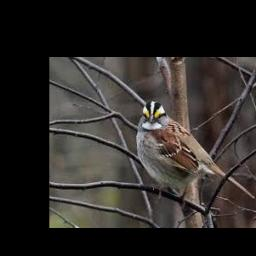Sparrow: (136, 101, 255, 201)
